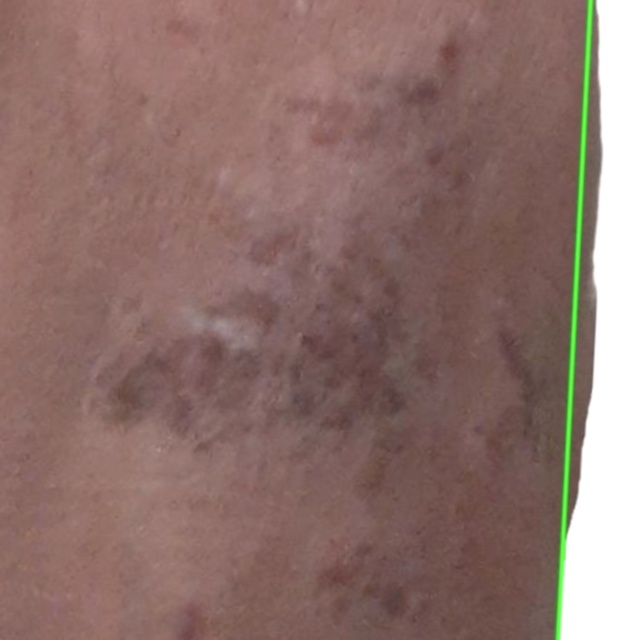Contact Dermatitis: (558, 0, 639, 639)
